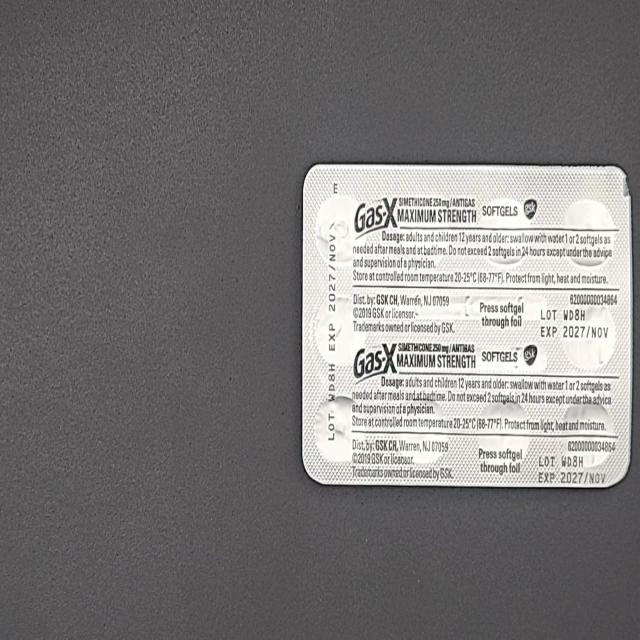no defect: (12, 16, 41, 68)
